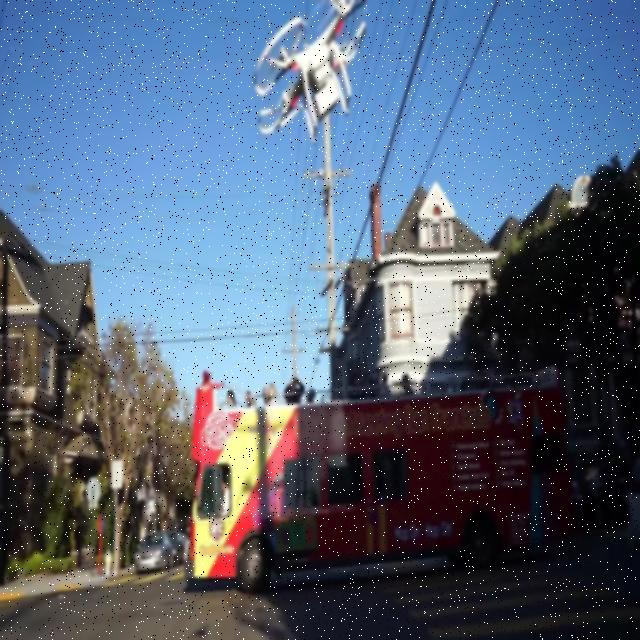UAV: (254, 0, 368, 147)
